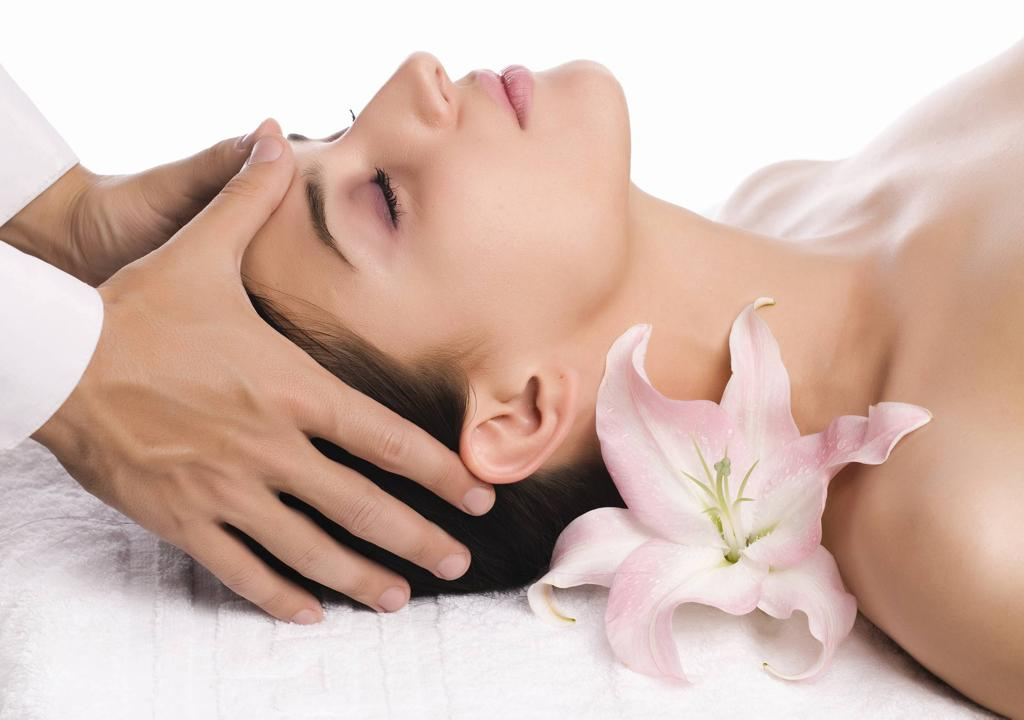face: (216, 54, 634, 314)
